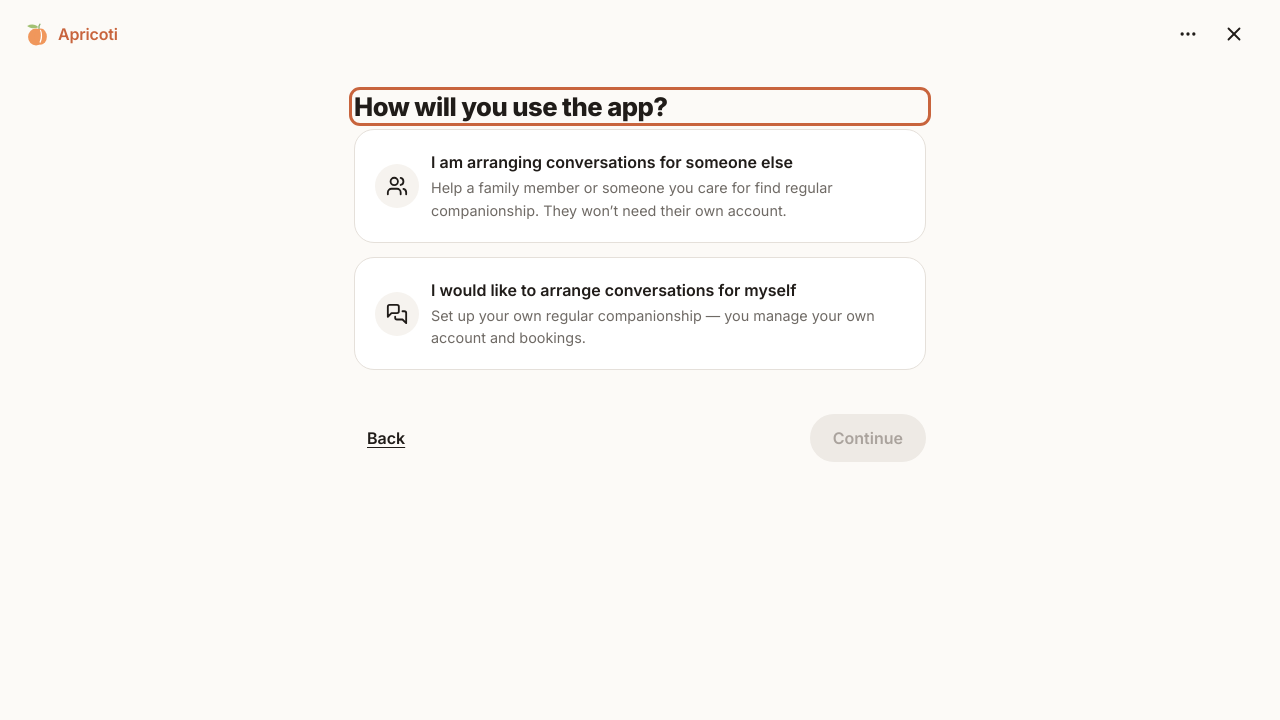
app smoke test › advances into the Coordinator flow after choosing a role
Click the text "I am arranging conversations for someone else". click: click(612, 162)
box: top-left (431, 152), bottom-right (793, 172)
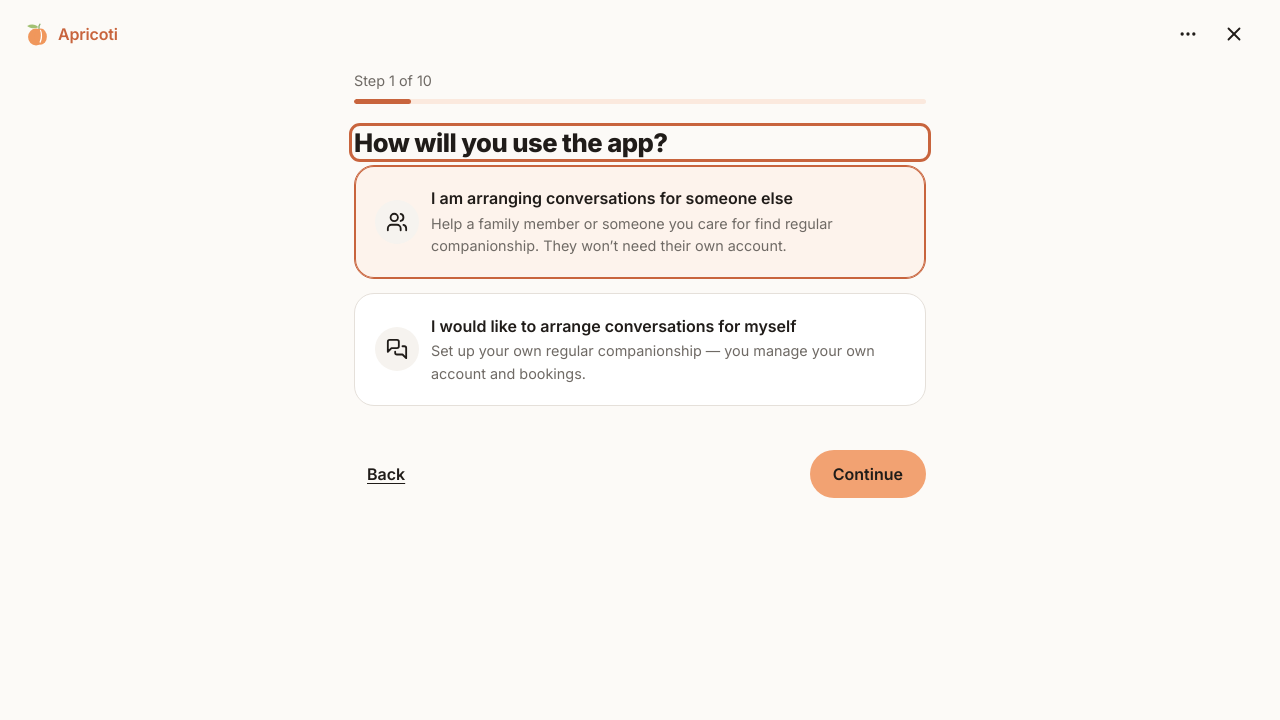
Click the button "Continue". click: click(868, 474)
box: top-left (810, 450), bottom-right (926, 498)
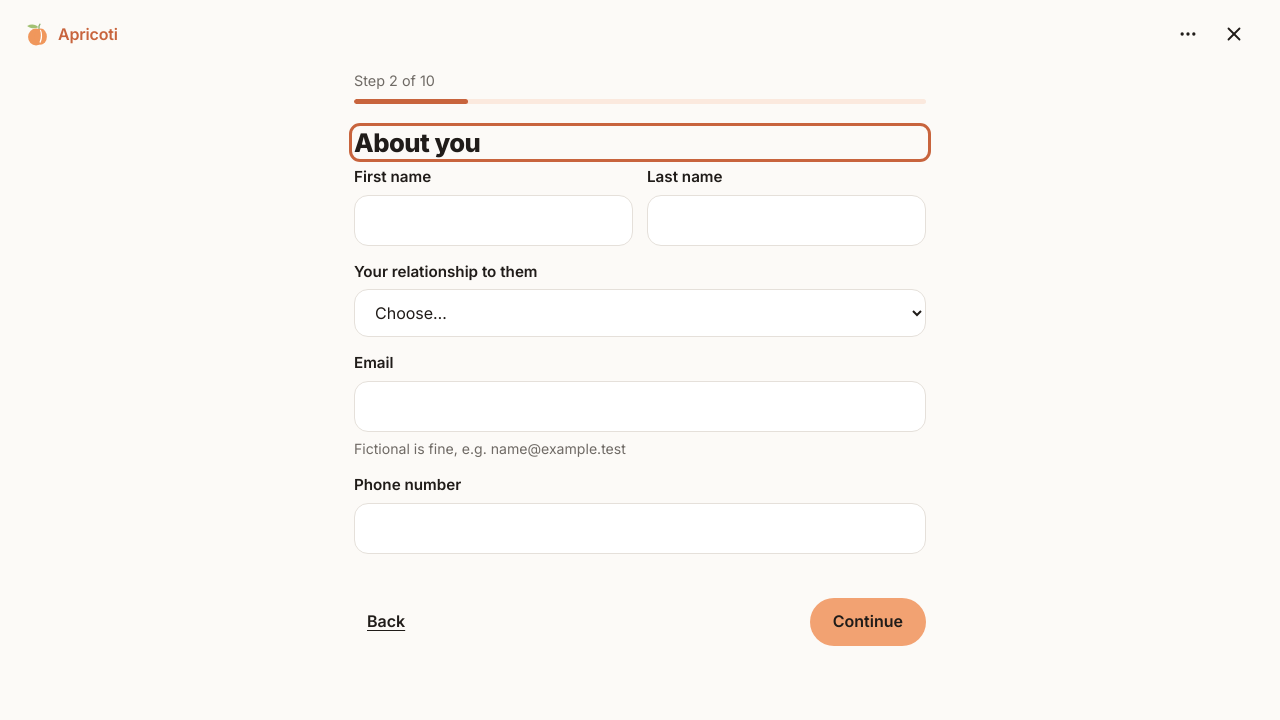
Expected: the heading "About you" is shown, top-left (354, 127), bottom-right (480, 158)
